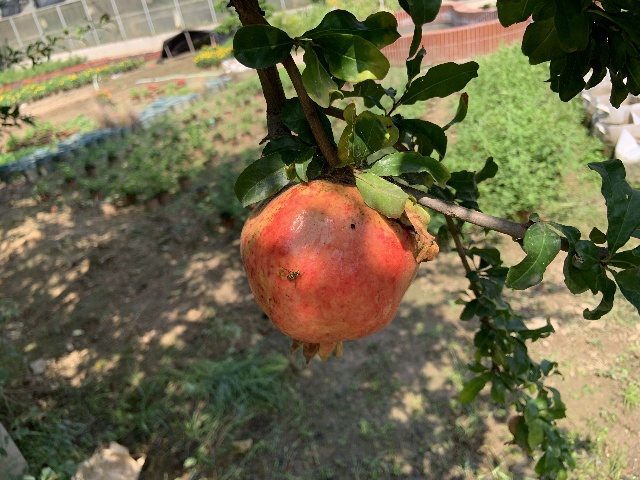ripe: (239, 180, 419, 365)
